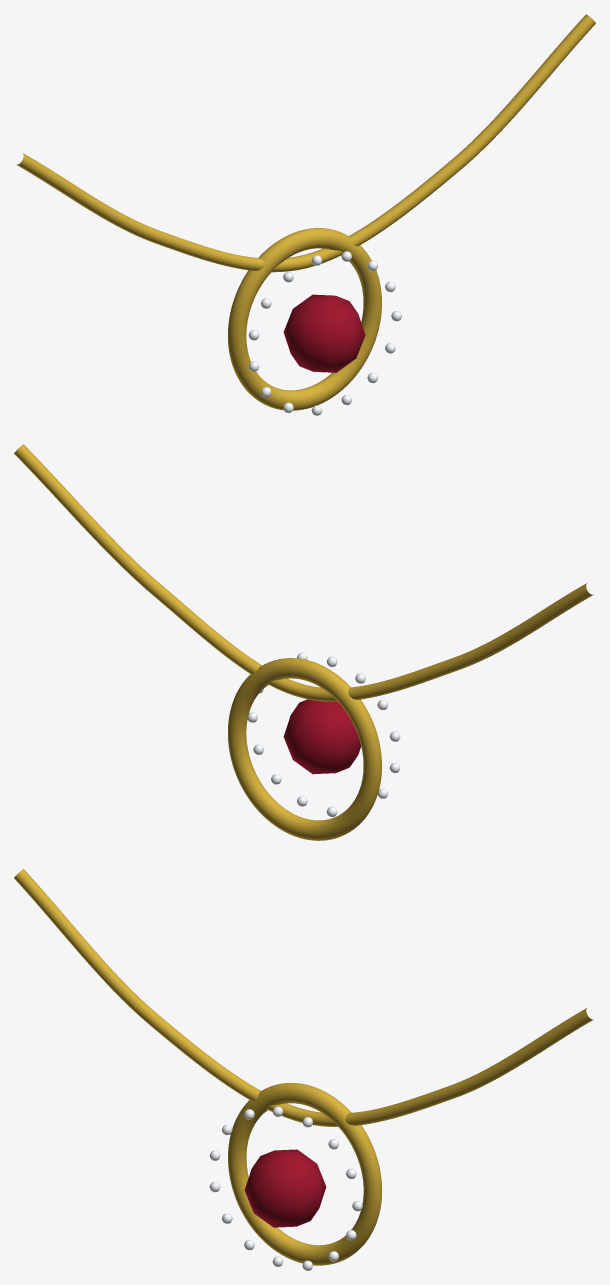
File: marigold-gold-choker.glb
3 views of the same model, one above another, from view 1: azimuth 30°, elevation 25°; view 2: azimuth 150°, elevation 25°; view 3: azimuth 330°, elevation 25° (orthographic).
Visible parts, largest first — view 1: chain, pendant_frame, pendant_gem; view 2: pendant_frame, chain, pendant_gem; view 3: chain, pendant_frame, pendant_gem.
Part boxes in pixels (x1,y1,x2,y2): chain: (15,14,595,272); pendant_frame: (227,228,381,410); pendant_gem: (283,294,365,372); pendant_frame: (227,658,381,840); chain: (14,444,593,701); pendant_gem: (283,699,360,774); chain: (14,869,593,1126); pendant_frame: (228,1082,381,1265); pendant_gem: (244,1149,326,1227).
Bounding box in the file's own units: 2.73 × 1.46 × 0.366.
